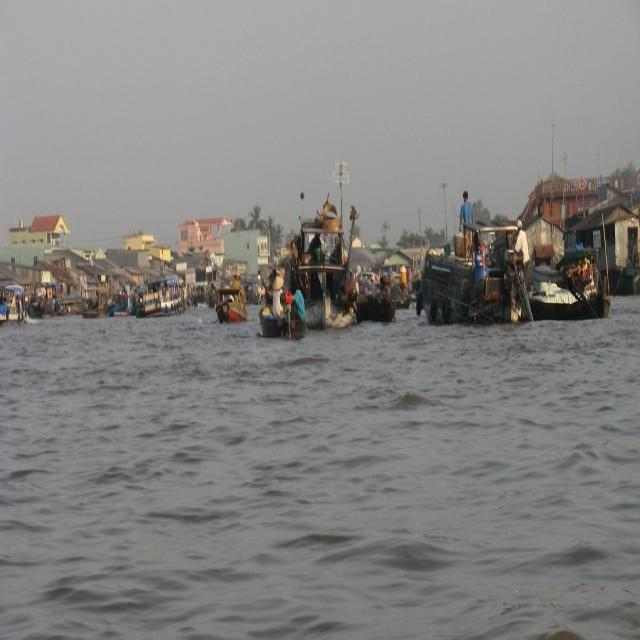boat: (421, 223, 525, 329), (284, 219, 365, 330), (530, 281, 614, 323), (138, 278, 187, 319), (258, 305, 307, 342), (217, 283, 249, 324)
